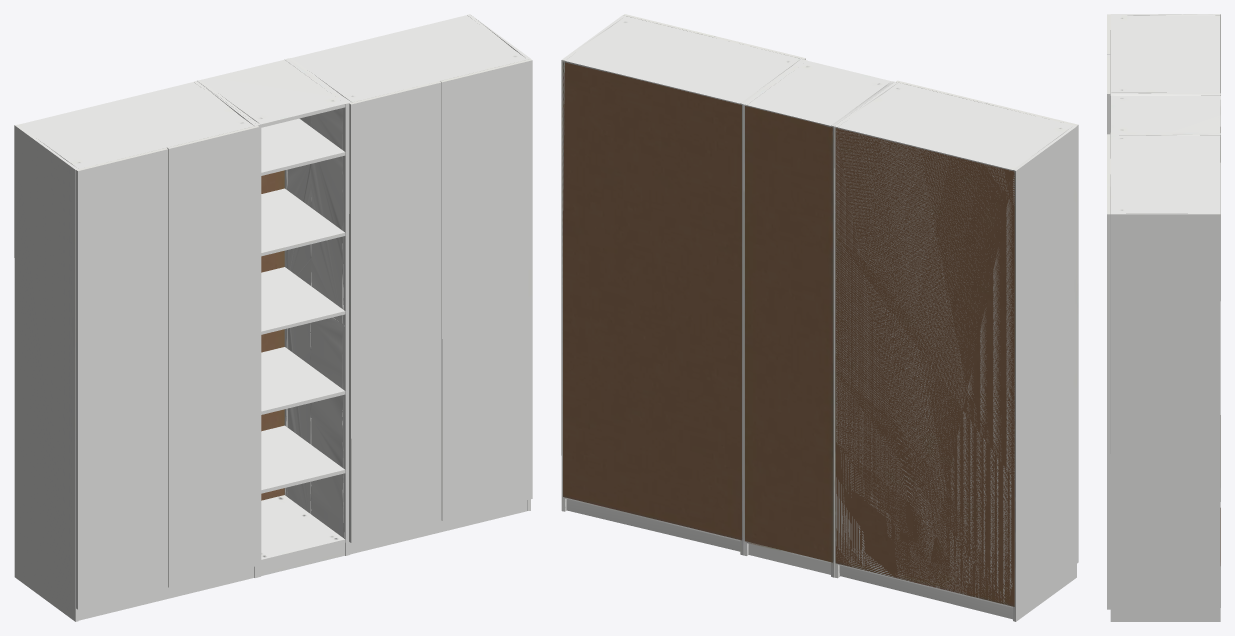
Rendered from pax_forsand_szafa_49494335.glb.
3 renders of one model, left to right at view 1: azimuth 30°, elevation 25°; view 2: azimuth 150°, elevation 25°; view 3: azimuth 270°, elevation 25°, orthographic. The views are drawn at different scales.
Visible parts, largest first — view 1: pax_forsand_szafa_49494335; view 2: pax_forsand_szafa_49494335; view 3: pax_forsand_szafa_49494335.
Boxes of the visible parts, <box> form: pax_forsand_szafa_49494335: <box>14,14,532,621</box>; pax_forsand_szafa_49494335: <box>561,14,1078,621</box>; pax_forsand_szafa_49494335: <box>1107,14,1220,621</box>.
Bounding box in the file's own units: 2.49 × 2.36 × 0.5979.
Materials: 1 (1 with a texture image).
